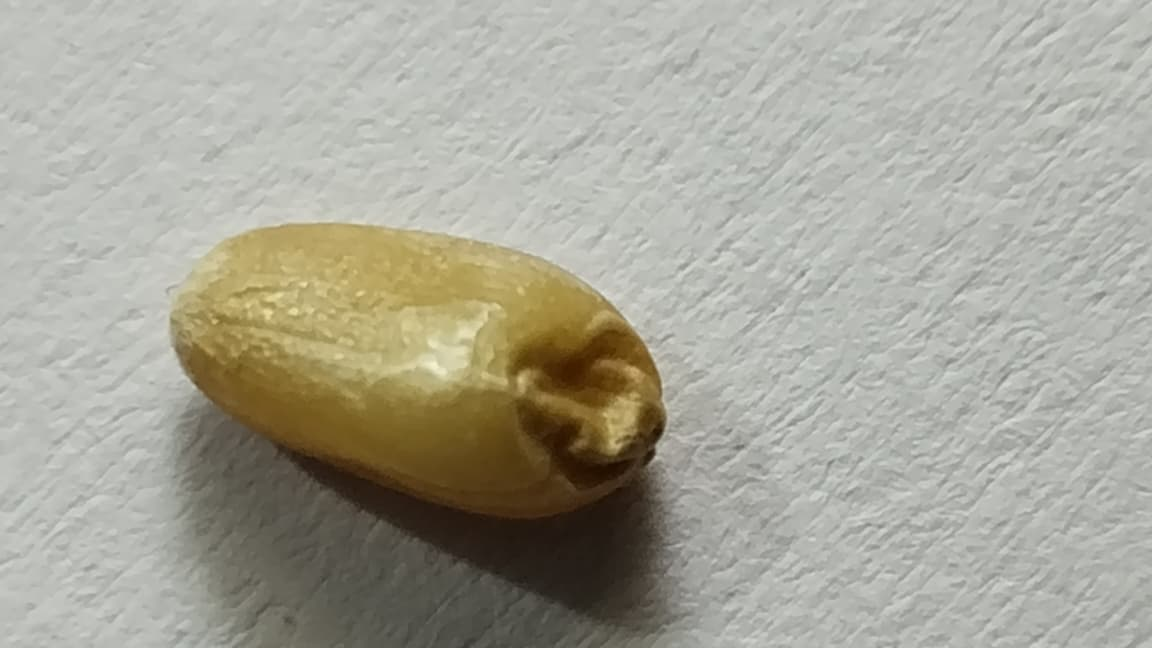healthy: (171, 224, 664, 514)
